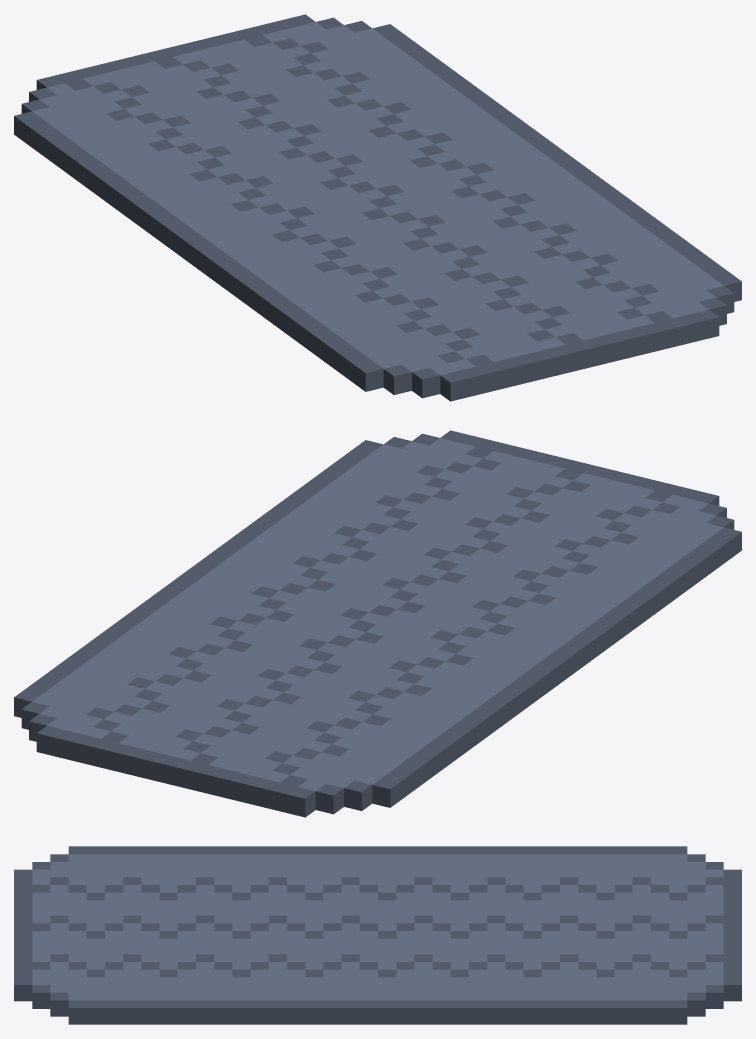
The model's file is kovrik.obj.
The picture shows the model from 3 angles, top to bottom: view 1: azimuth 30°, elevation 25°; view 2: azimuth 150°, elevation 25°; view 3: azimuth 270°, elevation 25°; orthographic projection. The views are drawn at different scales.
Size of the model in its own units: 2.1 by 0.1 by 4.
Materials: 1 (1 with a texture image).
